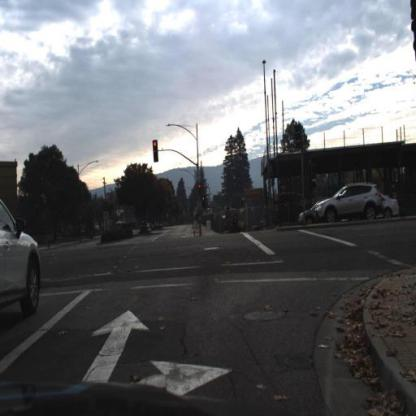car: (1, 189, 48, 318), (314, 185, 382, 221), (296, 200, 332, 230), (301, 199, 324, 228), (383, 193, 401, 220)
pedestrian: (266, 209, 271, 230), (234, 213, 239, 231)
trafficLight-Red: (153, 140, 158, 164), (198, 181, 203, 197)
